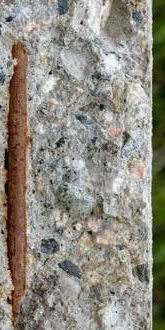Exposed reinforcement: (7, 40, 29, 319)
Spalling: (1, 1, 152, 330)
